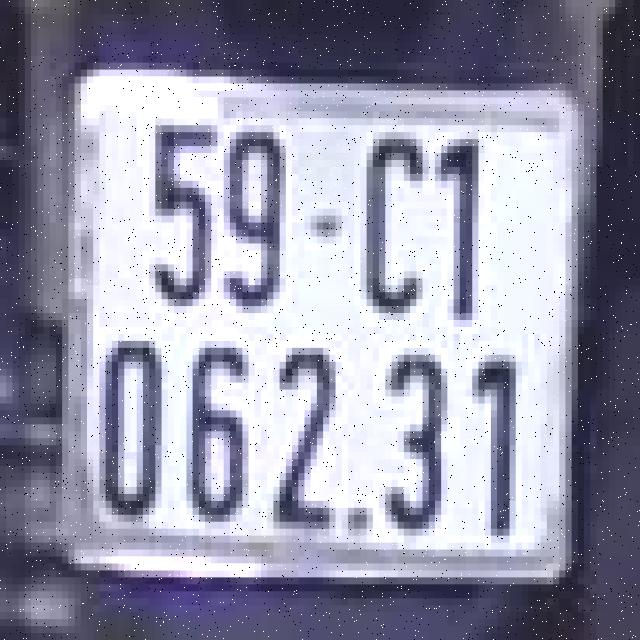0: (90, 324, 171, 539)
1: (460, 341, 534, 556), (432, 118, 494, 341)
2: (273, 324, 348, 546)
3: (361, 327, 454, 543)
5: (136, 115, 218, 316)
6: (180, 320, 255, 536)
9: (224, 108, 292, 323)
C: (351, 125, 432, 327)
